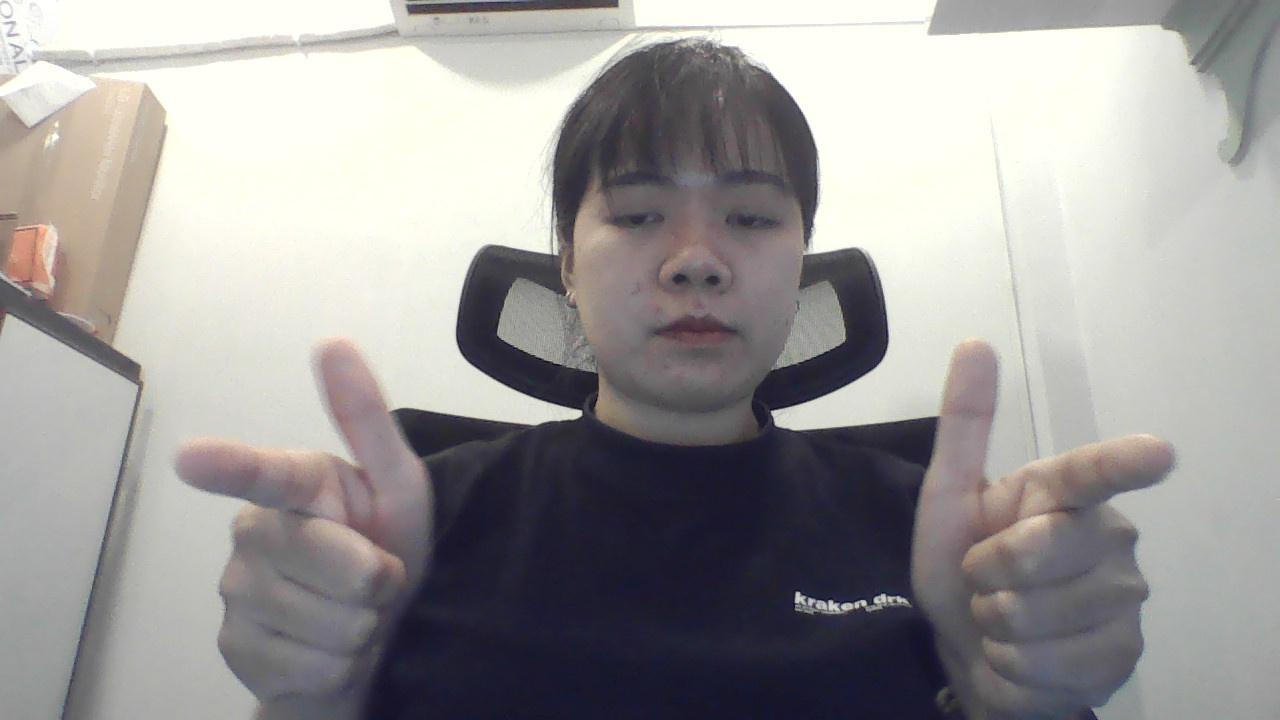G: (916, 322, 1190, 719), (172, 326, 448, 698)
